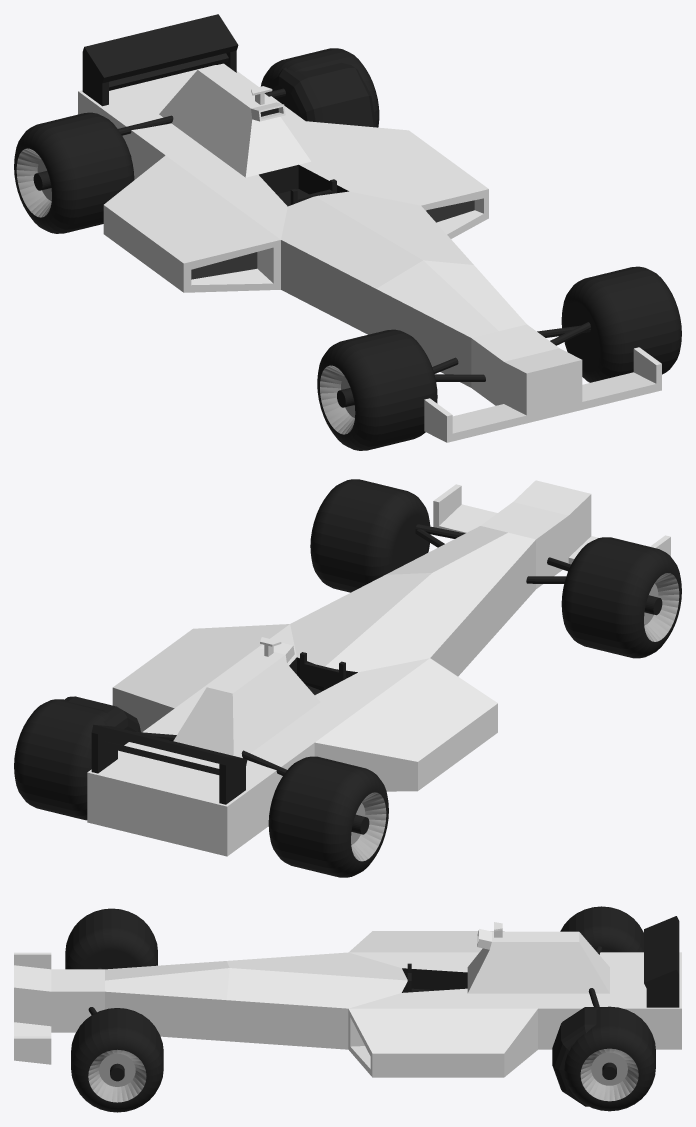
Rendered from F1-car.glb.
The picture shows the model from 3 angles, top to bottom: view 1: azimuth 30°, elevation 25°; view 2: azimuth 150°, elevation 25°; view 3: azimuth 270°, elevation 25°; orthographic projection. The views are drawn at different scales.
Parts seen in each view (by area): view 1: chassis, front-right-tire, back-right-tire, front-left-tire, blt, back-left-tire; view 2: chassis, back-right-tire, front-right-tire, front-left-tire, back-left-tire, blt; view 3: chassis, front-left-tire, back-left-tire, front-right-tire, back-right-tire, blt.
Boxes of the visible parts, x1,y1,x2,y2 form: chassis: [78, 14, 661, 442]; front-right-tire: [317, 329, 437, 450]; back-right-tire: [14, 112, 134, 233]; front-left-tire: [561, 266, 681, 382]; blt: [267, 62, 375, 127]; back-left-tire: [261, 48, 379, 127]; chassis: [87, 480, 670, 856]; back-right-tire: [268, 756, 388, 877]; front-right-tire: [561, 537, 681, 658]; front-left-tire: [310, 479, 430, 592]; back-left-tire: [14, 699, 108, 820]; blt: [65, 696, 140, 745]; chassis: [14, 916, 681, 1077]; front-left-tire: [71, 1008, 163, 1112]; back-left-tire: [564, 1006, 655, 1111]; front-right-tire: [65, 908, 157, 969]; back-right-tire: [560, 906, 643, 952]; blt: [552, 1007, 603, 1106].
Size of the model in its own units: 3.48 by 1.51 by 7.36.
1 material, 1 textured.
